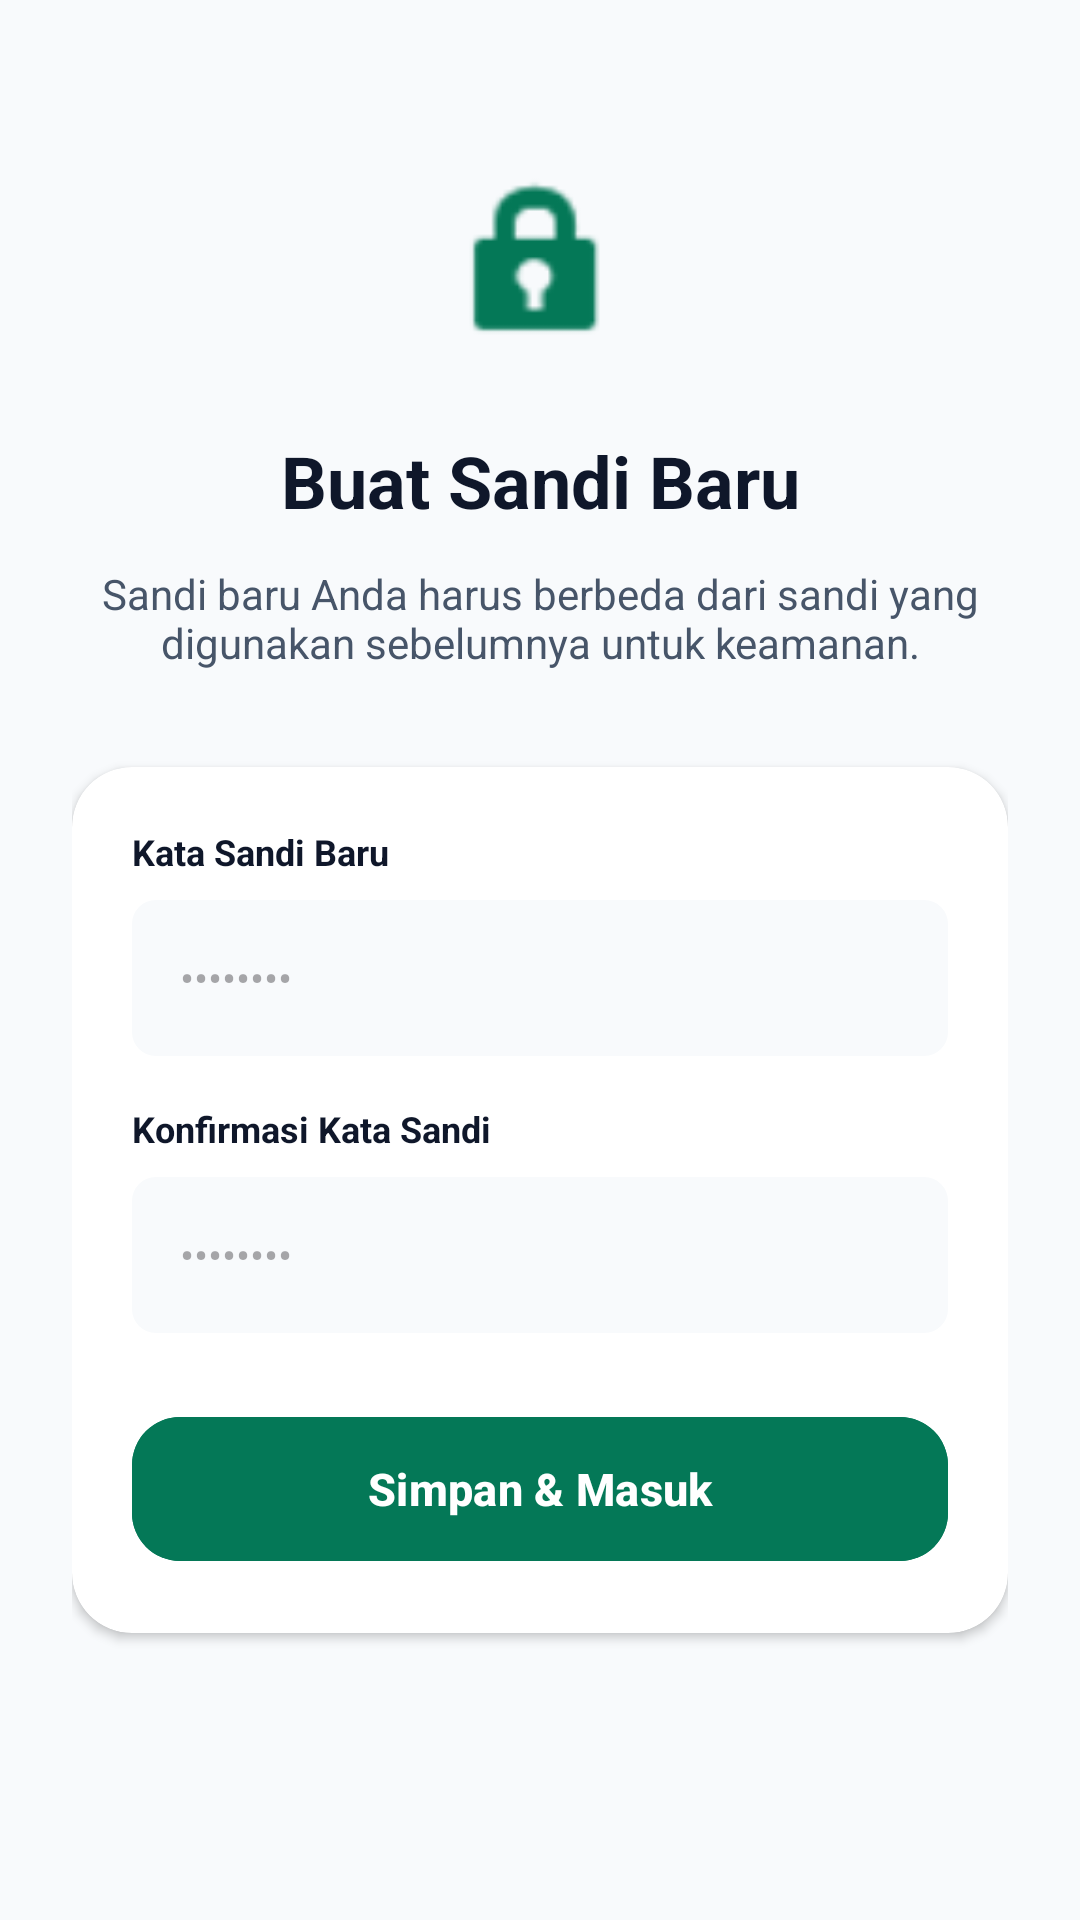

Icon click points for this 1080×1920 phone screenshot, format (x,y):
lock idle: (535,258)
